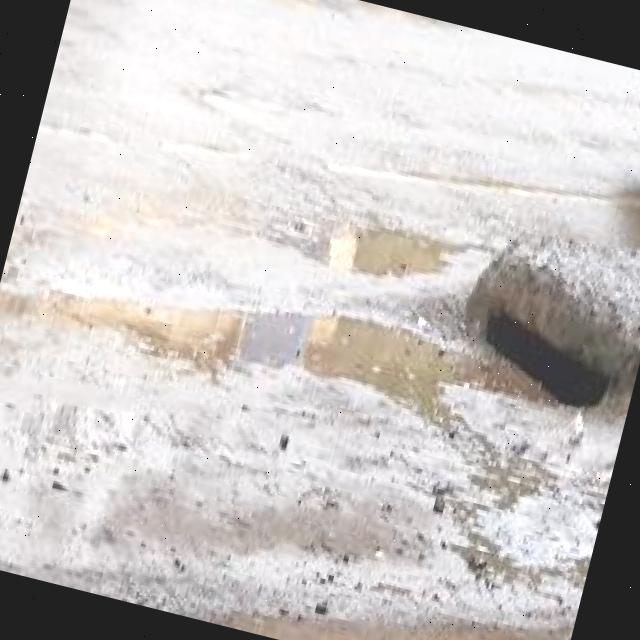stagnation: (0, 225, 533, 457), (255, 162, 499, 316)
